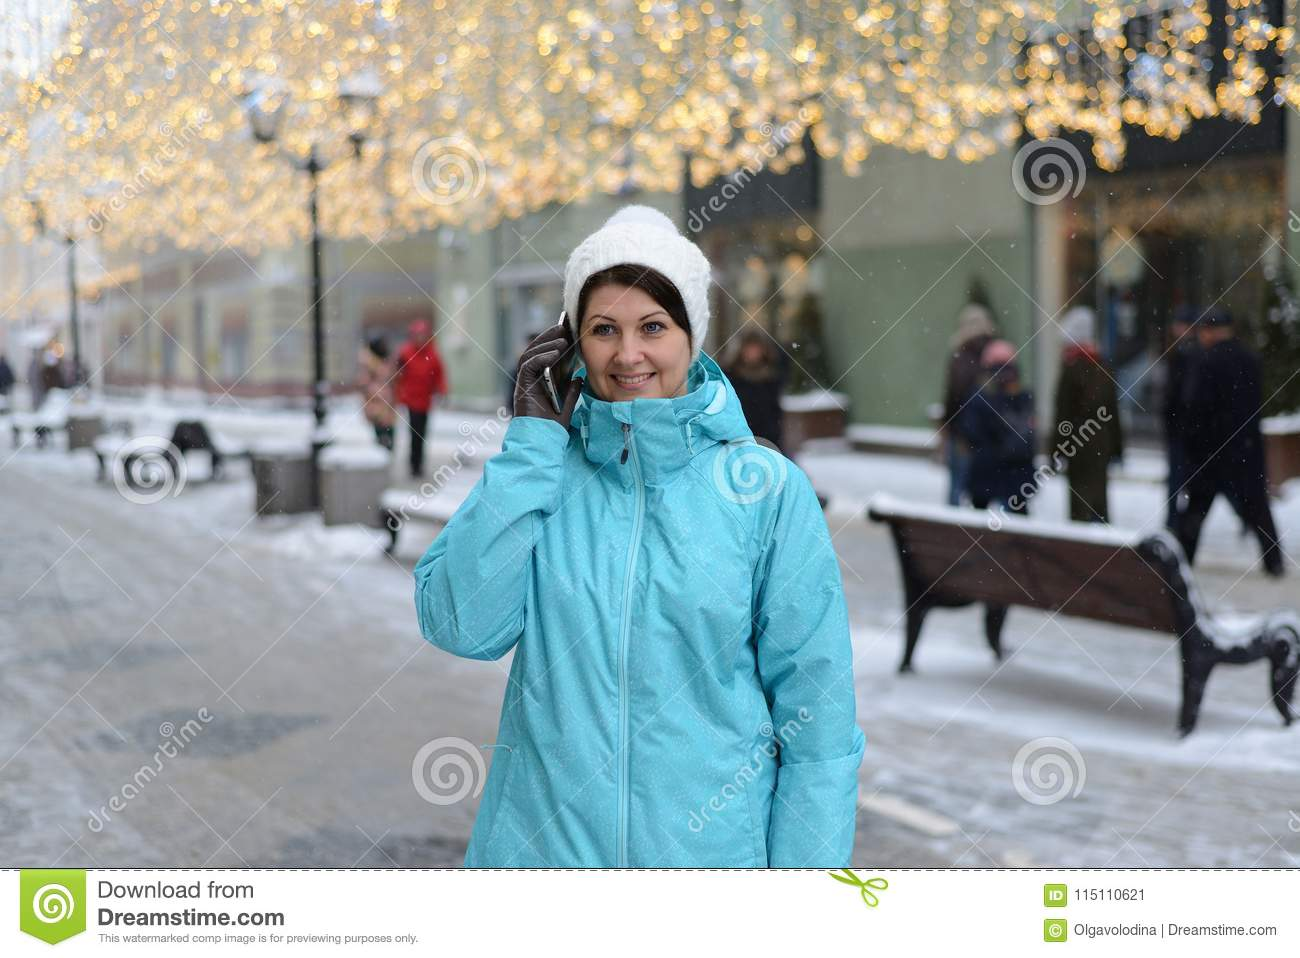phone: (545, 311, 575, 415)
talk: (512, 304, 672, 425)
